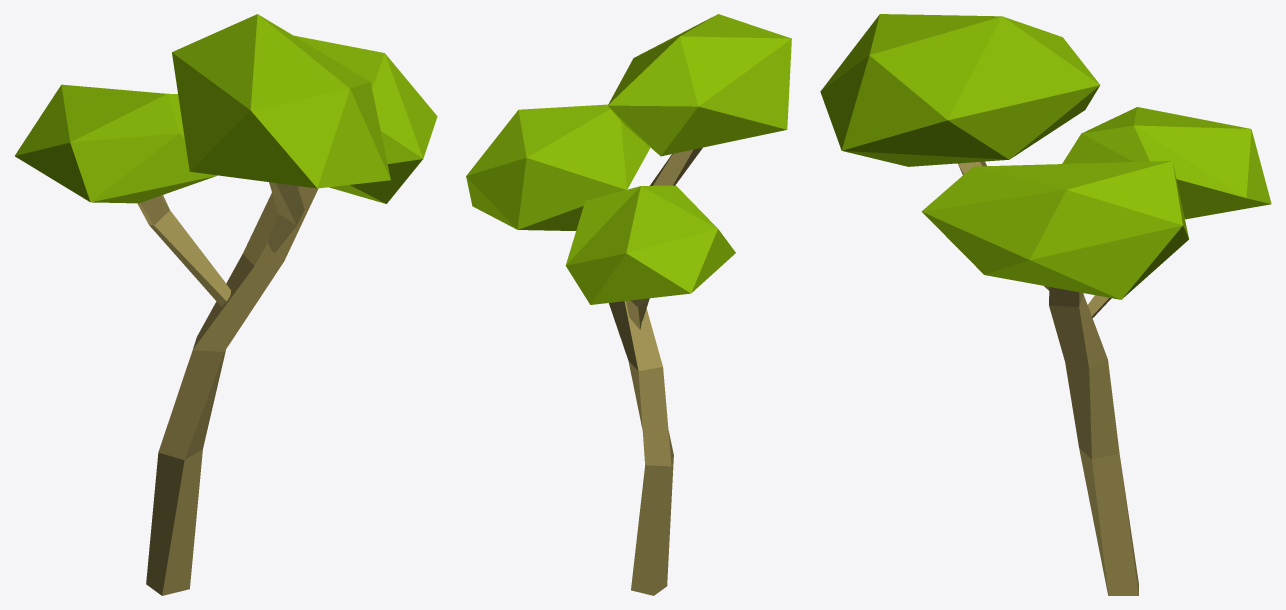
File: Tree_Summer_5.fbx
The picture shows the model from 3 angles, left to right: view 1: azimuth 30°, elevation 25°; view 2: azimuth 150°, elevation 25°; view 3: azimuth 270°, elevation 25°; orthographic projection. The views are drawn at different scales.
Parts seen in each view (by area): view 1: Leaves, Leaves.001, Trunk, Leaves.002, Trunk.001, Trunk.002; view 2: Leaves, Leaves.002, Leaves.001, Trunk, Trunk.002, Trunk.001; view 3: Leaves, Leaves.002, Leaves.001, Trunk.
Part boxes in pixels (left/top/right/bottom): Leaves: left=172, top=14, right=390, bottom=188; Leaves.001: left=15, top=84, right=217, bottom=203; Trunk: left=146, top=186, right=318, bottom=595; Leaves.002: left=294, top=35, right=437, bottom=203; Trunk.001: left=137, top=195, right=231, bottom=306; Trunk.002: left=267, top=182, right=304, bottom=252; Leaves: left=608, top=14, right=791, bottom=156; Leaves.002: left=466, top=104, right=650, bottom=230; Leaves.001: left=565, top=185, right=735, bottom=304; Trunk: left=609, top=301, right=673, bottom=595; Trunk.002: left=650, top=147, right=702, bottom=185; Trunk.001: left=626, top=298, right=649, bottom=329; Leaves: left=820, top=14, right=1100, bottom=166; Leaves.002: left=921, top=161, right=1188, bottom=299; Leaves.001: left=1062, top=107, right=1271, bottom=219; Trunk: left=1049, top=287, right=1138, bottom=595.
Size of the model in its own units: 217 by 395 by 276.
